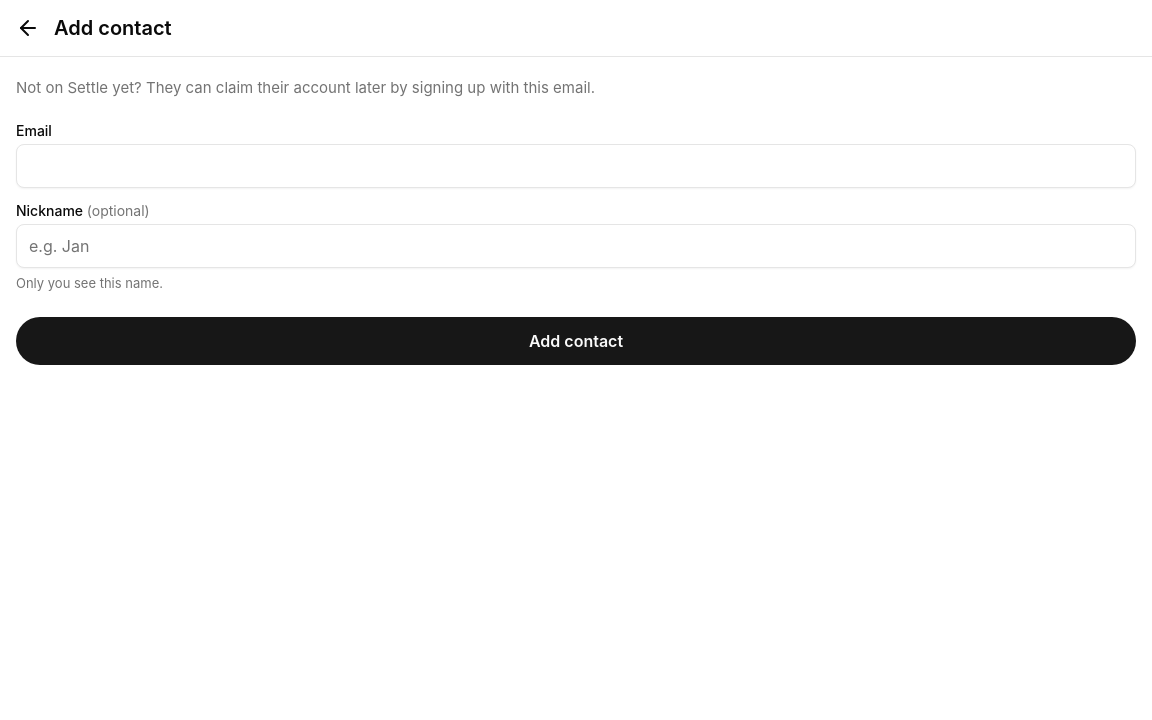
Test: AddContactPage › sends a trimmed payload and returns to contacts with a confirmation
In the field labelled "Email": (576, 166) [16,144,1136,188], type "  jan@example.com "
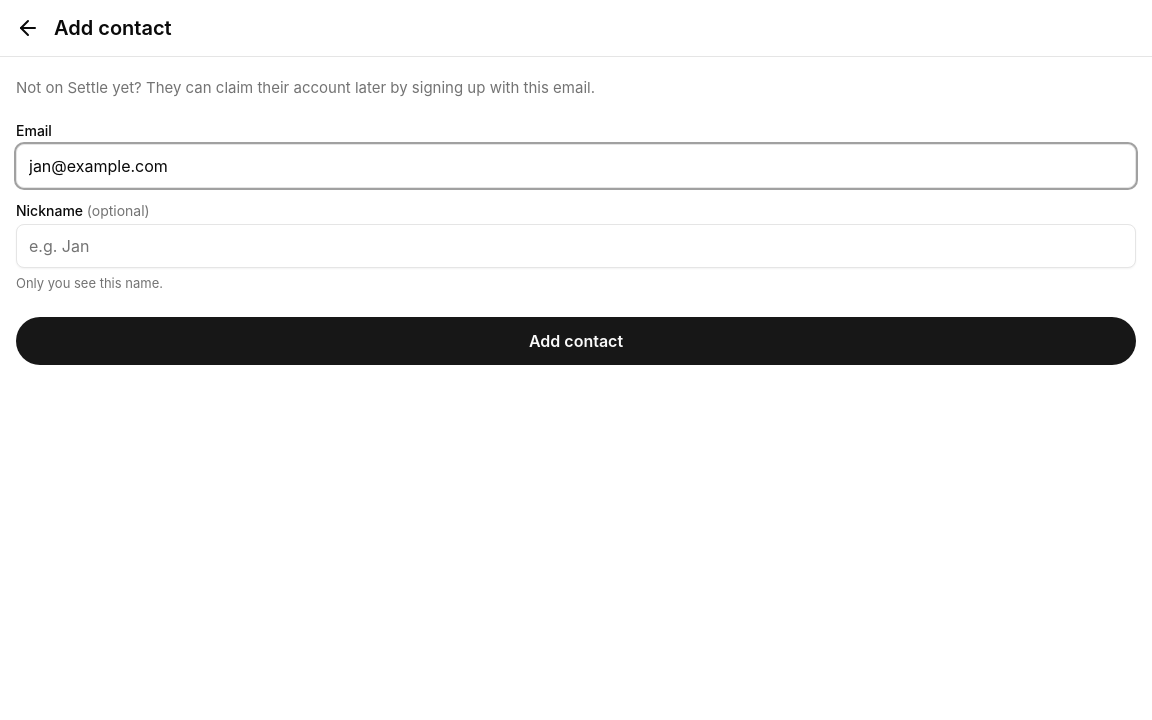
In the field labelled "Nickname (optional)": (576, 246) [16,224,1136,268], type " Jan "
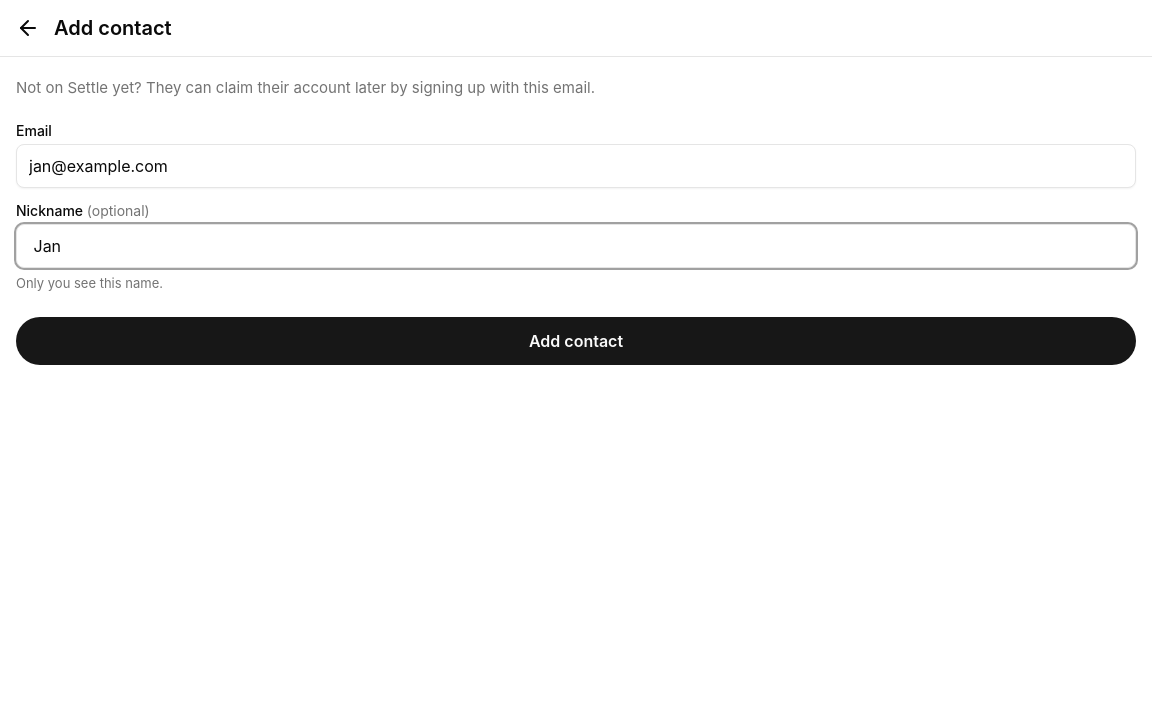
Click the button "Add contact": (576, 341) [16,317,1136,365]
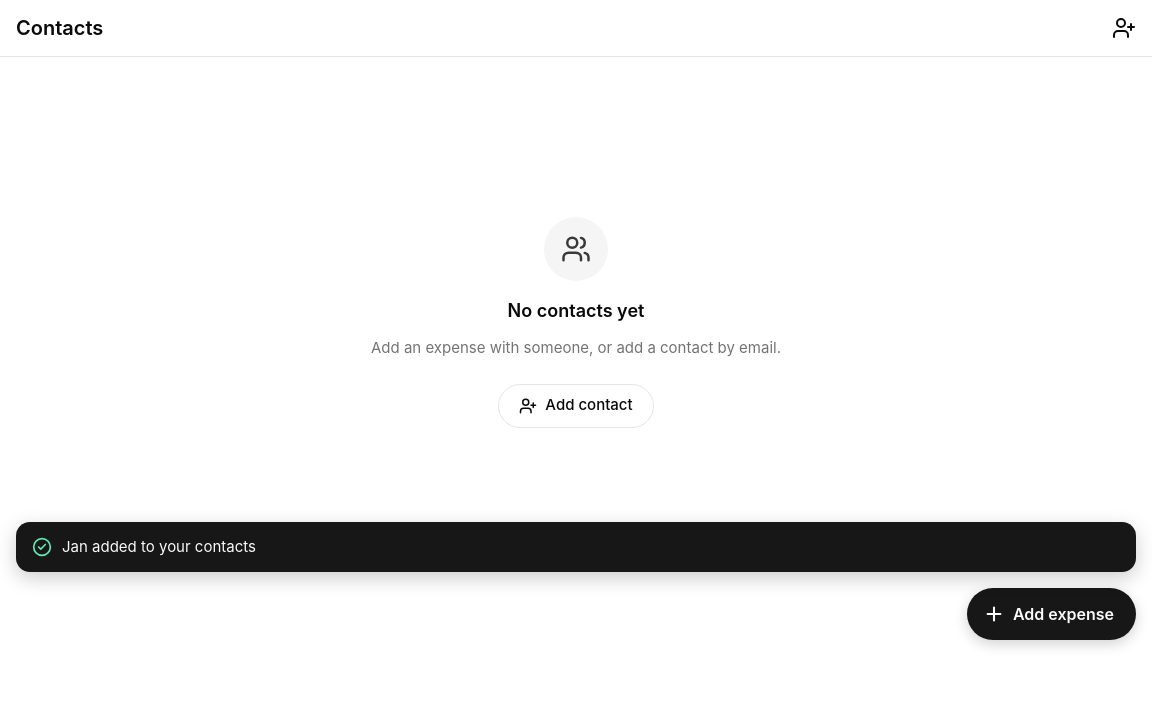
Result: the text "Jan added to your contacts" is shown at [16,522,1136,572]
